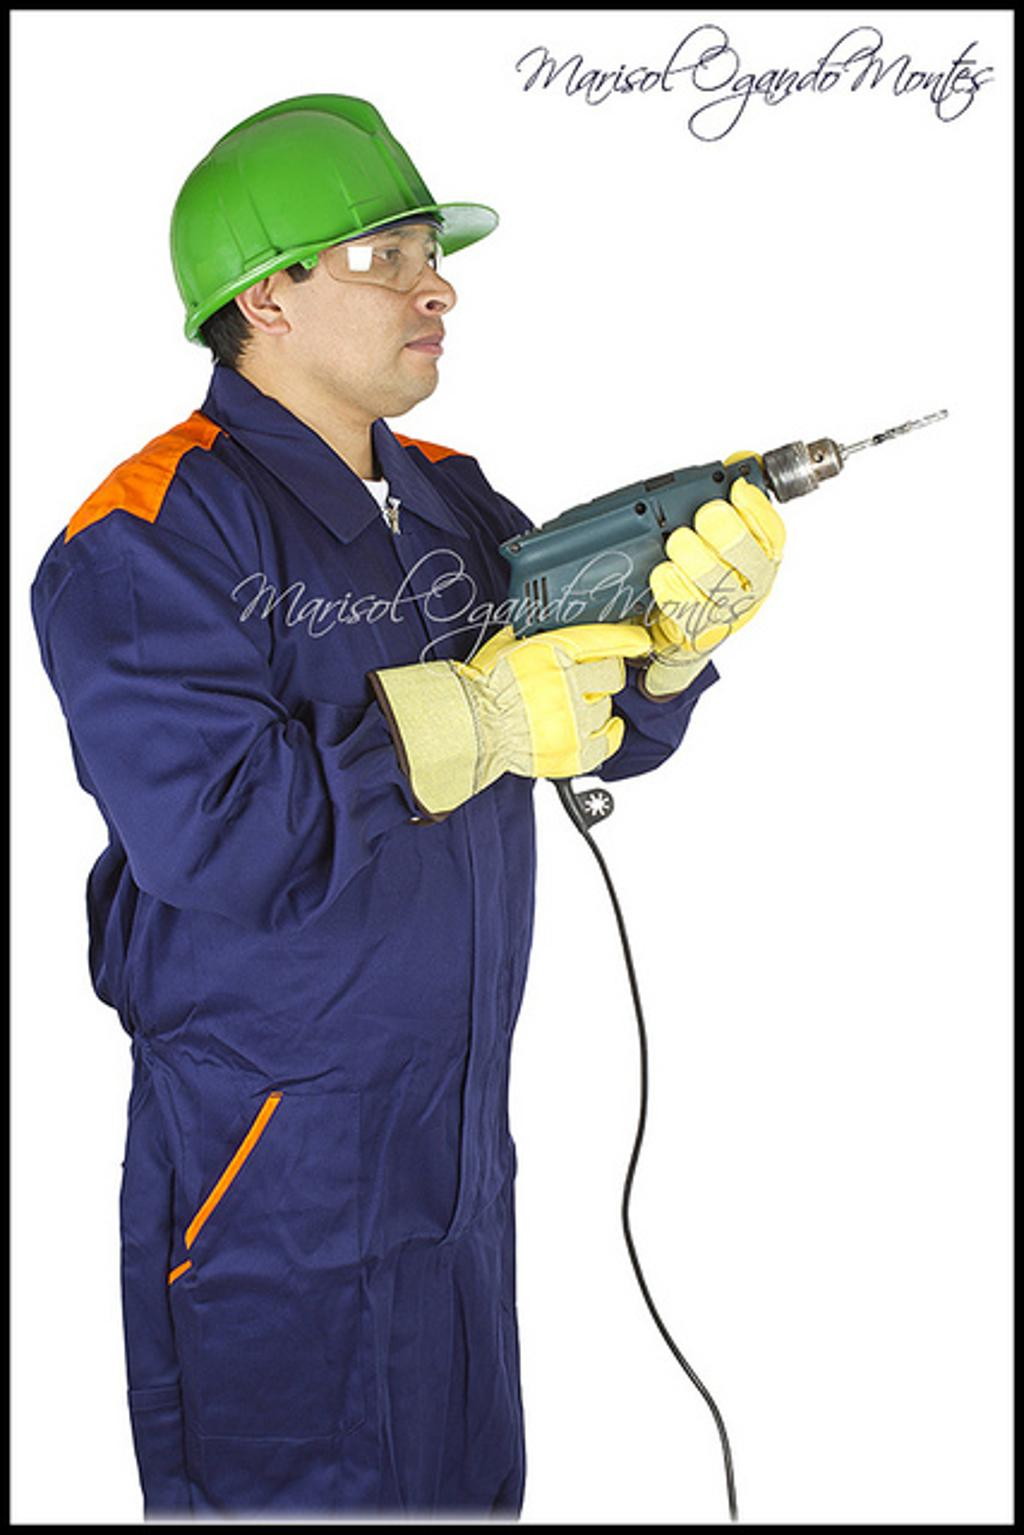face: (263, 153, 449, 393)
